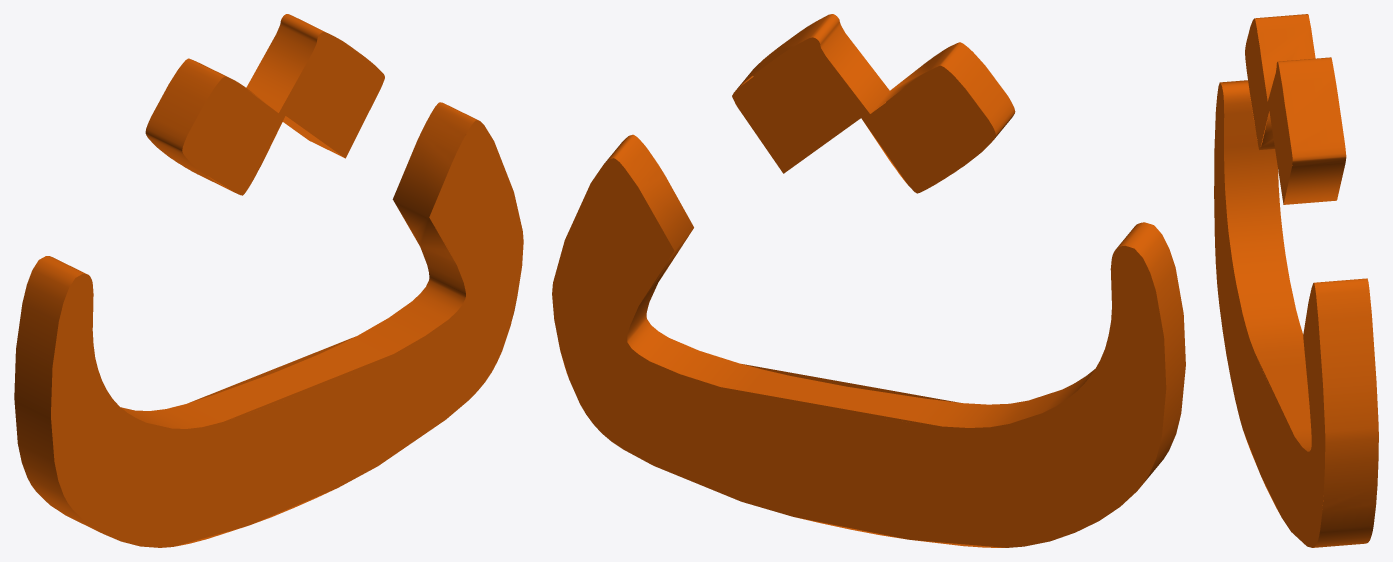
3 renders of one model, left to right at view 1: azimuth 30°, elevation 25°; view 2: azimuth 150°, elevation 25°; view 3: azimuth 270°, elevation 25°, orthographic. The views are drawn at different scales.
Parts seen in each view (by area): view 1: ta; view 2: ta; view 3: ta.
Boxes of the visible parts, x1,y1,x2,y2 form: ta: (14, 14, 523, 547); ta: (552, 14, 1185, 547); ta: (1214, 14, 1378, 547).
Size of the model in its own units: 409 by 339 by 112.
